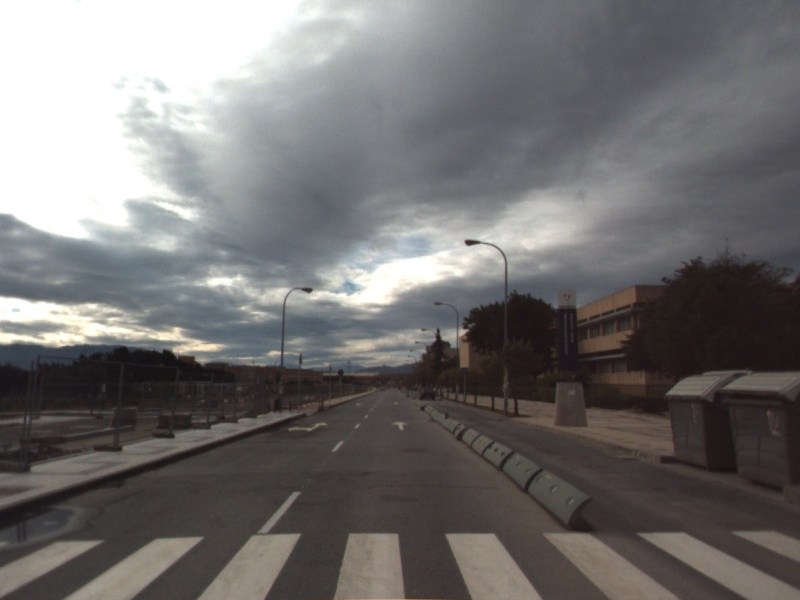STRAIGHT: (389, 419, 411, 432)
STRAIGHT_LEFT: (286, 420, 330, 434)
